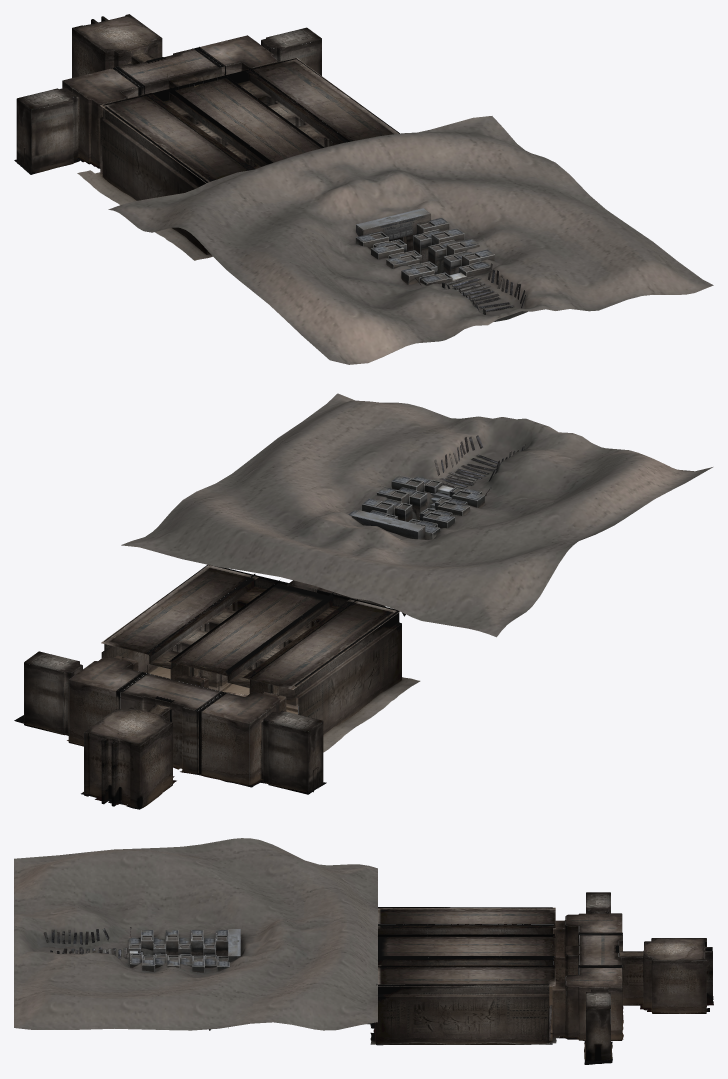
The model's file is egypt_chamber_for_ar__vr_games.glb.
3 views of the same model, one above another, from view 1: azimuth 30°, elevation 25°; view 2: azimuth 150°, elevation 25°; view 3: azimuth 270°, elevation 25° (orthographic). The views are drawn at different scales.
Parts seen in each view (by area): view 1: ground near, ceiling hall side, wall hall left, ceiling halll midle, left room, main room, left room hallway, wall stair right, middle room hallway, column right, wall stair left, colum left (+7 smaller); view 2: ground near, ceiling hall side, main room, wall hall left, left room hallway, ceiling halll midle, left room, middle room hallway, right room hallway, right room, column right, colum left (+6 smaller); view 3: ground near, wall hall right, ceiling hall side, main room, ceiling halll midle, right room hallway, column right, wall stair left, colum left, right room, left room hallway, middle room hallway (+6 smaller).
Boxes of the visible parts, bbox=[...] form: ground near: bbox=[108, 116, 713, 364]; ceiling hall side: bbox=[100, 57, 398, 183]; wall hall left: bbox=[102, 106, 210, 254]; ceiling halll midle: bbox=[168, 78, 321, 164]; left room: bbox=[16, 88, 78, 173]; main room: bbox=[72, 14, 162, 77]; left room hallway: bbox=[62, 67, 140, 168]; wall stair right: bbox=[413, 218, 494, 276]; middle room hallway: bbox=[115, 48, 221, 94]; column right: bbox=[224, 67, 350, 147]; wall stair left: bbox=[355, 231, 452, 285]; colum left: bbox=[145, 87, 272, 170]; ground near: bbox=[121, 393, 712, 637]; ceiling hall side: bbox=[101, 565, 399, 689]; main room: bbox=[84, 704, 172, 808]; wall hall left: bbox=[294, 589, 401, 734]; left room hallway: bbox=[199, 691, 286, 785]; ceiling halll midle: bbox=[168, 584, 334, 675]; left room: bbox=[261, 710, 323, 794]; middle room hallway: bbox=[120, 673, 223, 773]; right room hallway: bbox=[68, 655, 145, 746]; right room: bbox=[24, 651, 82, 735]; column right: bbox=[147, 574, 279, 691]; colum left: bbox=[225, 592, 357, 713]; ground near: bbox=[14, 838, 377, 1030]; wall hall right: bbox=[376, 983, 549, 1045]; ceiling hall side: bbox=[378, 907, 555, 986]; main room: bbox=[619, 938, 712, 1013]; ceiling halll midle: bbox=[378, 936, 555, 960]; right room hallway: bbox=[552, 966, 622, 1040]; column right: bbox=[378, 956, 554, 967]; wall stair left: bbox=[128, 930, 228, 956]; colum left: bbox=[378, 924, 554, 936]; right room: bbox=[586, 989, 610, 1061]; left room hallway: bbox=[553, 913, 622, 951]; middle room hallway: bbox=[578, 934, 622, 966].
Bounding box in the file's own units: 5183 × 1817 × 9963.
Materials: 56 (53 with a texture image).
